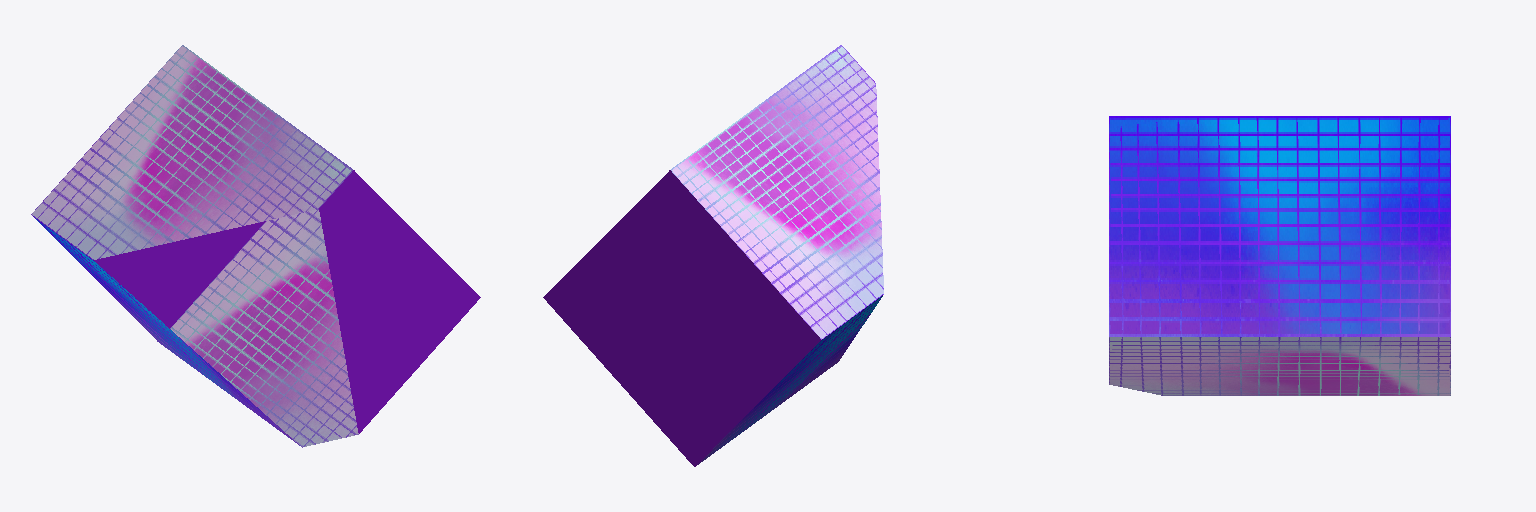
3 renders of one model, left to right at view 1: azimuth 30°, elevation 25°; view 2: azimuth 150°, elevation 25°; view 3: azimuth 270°, elevation 25°, orthographic.
Parts seen in each view (by area): view 1: Build_B_Bot; view 2: Build_B_Bot; view 3: Build_B_Bot.
Boxes of the visible parts, x1,y1,x2,y2 form: Build_B_Bot: [31, 45, 480, 447]; Build_B_Bot: [543, 45, 883, 466]; Build_B_Bot: [1109, 116, 1450, 395].
Size of the model in its own units: 0.372 by 0.3719 by 0.396.
1 materials, 1 textured.